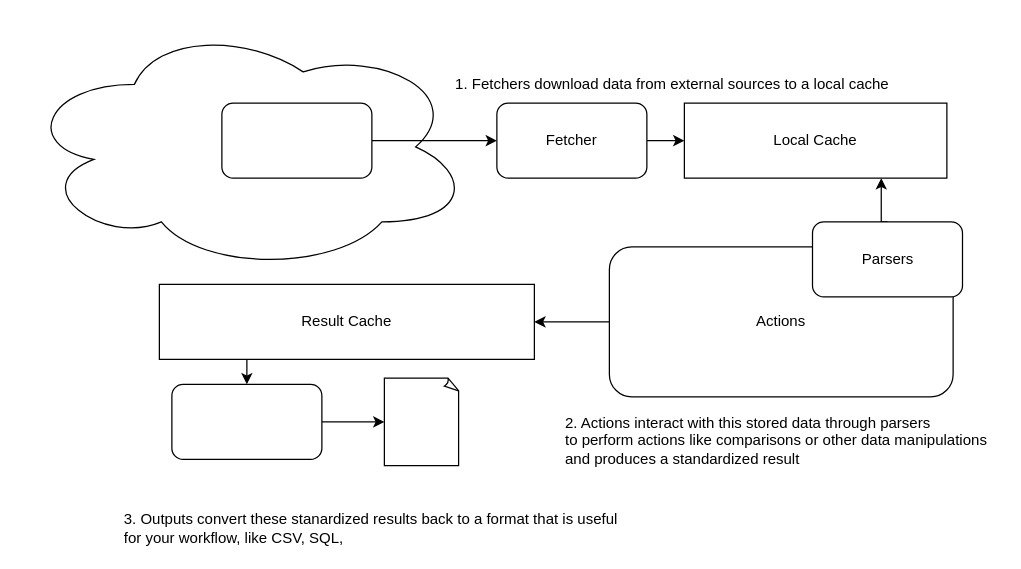
Some shapes in this 1021 by 569 pixel diagram are drawn without their labels. Here are the shapes that lost their labels. From the top down, the centre of each, then its label:
At [296,140]: "Sources these can represent API's or any other internet-accessible data".
At [246,421]: "Output".
